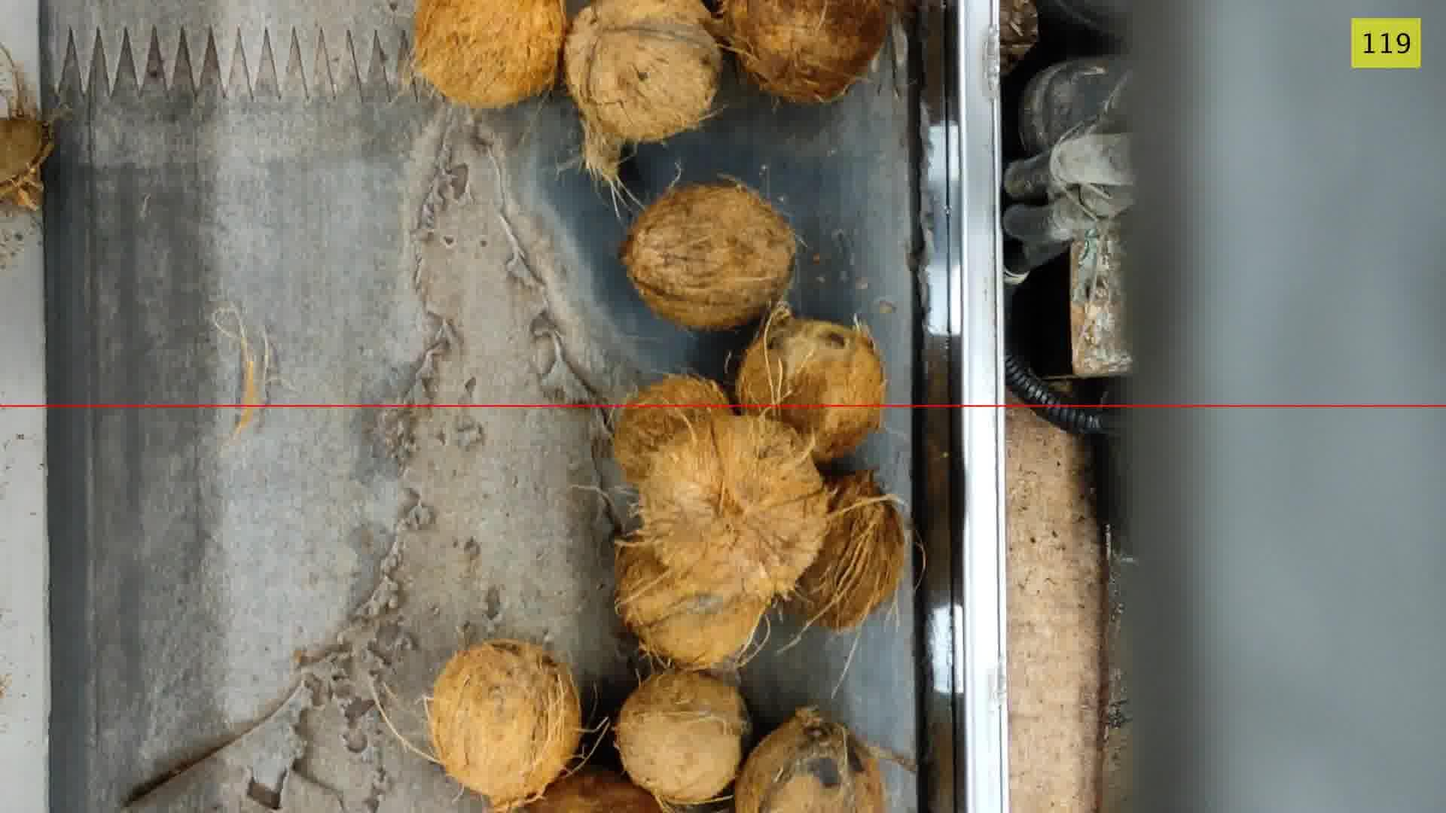Coconut: (635, 414, 828, 601), (563, 0, 722, 184), (621, 178, 797, 330), (429, 641, 581, 811), (736, 306, 886, 461), (615, 543, 766, 669), (796, 470, 910, 629), (615, 671, 749, 805), (722, 0, 893, 102), (413, 0, 567, 108), (735, 708, 883, 812), (612, 374, 730, 483), (0, 46, 53, 210), (528, 768, 664, 812), (0, 117, 53, 210)
